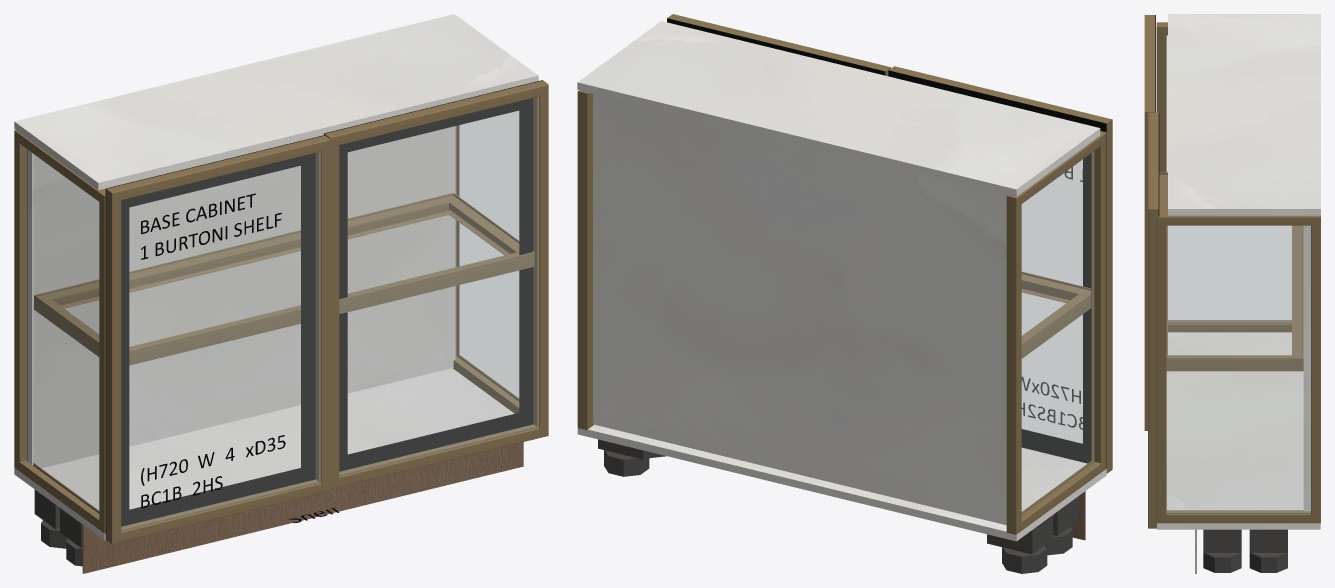
Rendered from BC-BS-STD-GL-1SG-XXX-XXX-940-720-336-15.glb.
3 renders of one model, left to right at view 1: azimuth 30°, elevation 25°; view 2: azimuth 150°, elevation 25°; view 3: azimuth 270°, elevation 25°, orthographic. The views are drawn at different scales.
Visible parts, largest first — view 1: TP_node_0, Object_node_18, Object_node_14, Neon 22 Profile ALU PROF NEON 20 L21XH22.5MM 3MTR S2/405 SEC (×14), TP_node, Object_node_34, TP, ALU LIGHT PROFILE S2422-D698 WITHOUT ANODISED 3 MTR W1.65 KG (×4), Object_node_16, Object_node_24, Object_node_20, Object_node_22 (+2 smaller); view 2: TP_node_0, TP_node, Neon 22 Profile ALU PROF NEON 20 L21XH22.5MM 3MTR S2/405 SEC (×8), Object_node_34, Object_node_14, TP, Object_node_16, ALU LIGHT PROFILE S2422-D698 WITHOUT ANODISED 3 MTR W1.65 KG (×2), Plate, Object_node_20, Foot, Foot_node (+1 smaller); view 3: Object_node_24, TP_node, TP, Neon 22 Profile ALU PROF NEON 20 L21XH22.5MM 3MTR S2/405 SEC (×10), Object_node_34, ALU LIGHT PROFILE S2422-D698 WITHOUT ANODISED 3 MTR W1.65 KG (×3), TP_node_0, Plate_node_1, Plate_node, Foot_node_1, Foot_node.
Boxes of the visible parts, <box> form: TP_node_0: <box>27,126,455,468</box>; Object_node_18: <box>339,97,538,476</box>; Object_node_14: <box>121,152,320,531</box>; Neon 22 Profile ALU PROF NEON 20 L21XH22.5MM 3MTR S2/405 SEC (×14): <box>14,80,548,543</box>; TP_node: <box>14,14,538,190</box>; Object_node_34: <box>26,149,98,512</box>; TP: <box>14,368,514,540</box>; ALU LIGHT PROFILE S2422-D698 WITHOUT ANODISED 3 MTR W1.65 KG (×4): <box>34,193,534,365</box>; Object_node_16: <box>105,135,324,539</box>; Object_node_24: <box>460,111,518,397</box>; Object_node_20: <box>324,80,542,471</box>; Object_node_22: <box>82,442,523,573</box>; TP_node_0: <box>593,93,1007,525</box>; TP_node: <box>577,21,1100,196</box>; Neon 22 Profile ALU PROF NEON 20 L21XH22.5MM 3MTR S2/405 SEC (×8): <box>577,14,1112,534</box>; Object_node_34: <box>1022,151,1094,513</box>; Object_node_14: <box>1022,160,1082,442</box>; TP: <box>577,424,1106,541</box>; Object_node_16: <box>888,70,1106,467</box>; ALU LIGHT PROFILE S2422-D698 WITHOUT ANODISED 3 MTR W1.65 KG (×2): <box>1021,271,1091,358</box>; Plate: <box>987,515,1053,554</box>; Object_node_20: <box>667,18,885,75</box>; Foot: <box>1002,545,1047,573</box>; Foot_node: <box>604,450,649,476</box>; Object_node_24: <box>1167,226,1310,514</box>; TP_node: <box>1168,14,1320,215</box>; TP: <box>1157,332,1320,529</box>; Neon 22 Profile ALU PROF NEON 20 L21XH22.5MM 3MTR S2/405 SEC (×10): <box>1144,15,1320,528</box>; Object_node_34: <box>1167,35,1291,323</box>; ALU LIGHT PROFILE S2422-D698 WITHOUT ANODISED 3 MTR W1.65 KG (×3): <box>1159,175,1303,371</box>; TP_node_0: <box>1303,225,1310,511</box>; Plate_node_1: <box>1203,529,1241,552</box>; Plate_node: <box>1249,529,1287,552</box>; Foot_node_1: <box>1203,553,1241,572</box>; Foot_node: <box>1249,553,1287,572</box>.
Size of what is drawn, in the model's own units: 0.94 by 0.82 by 0.3659.
Materials: 8 (2 with a texture image).
